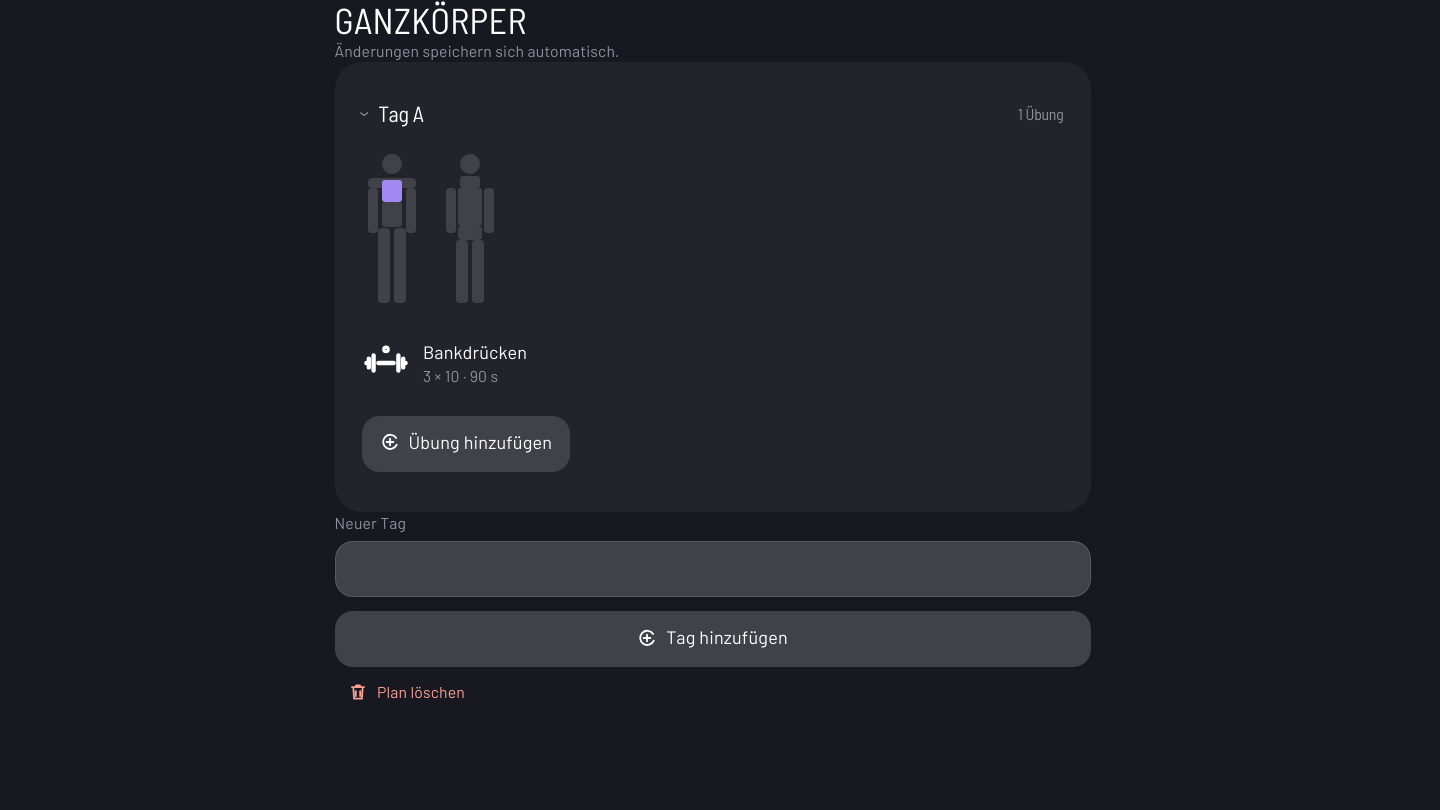
Test case: TrainingPlanEditPage › shows a message instead of an empty list when every exercise is already in the day
Expected: the text "Tag A" is shown, [378, 100, 424, 128]
Click the button "Übung hinzufügen" at (466, 444), box [362, 416, 570, 472]
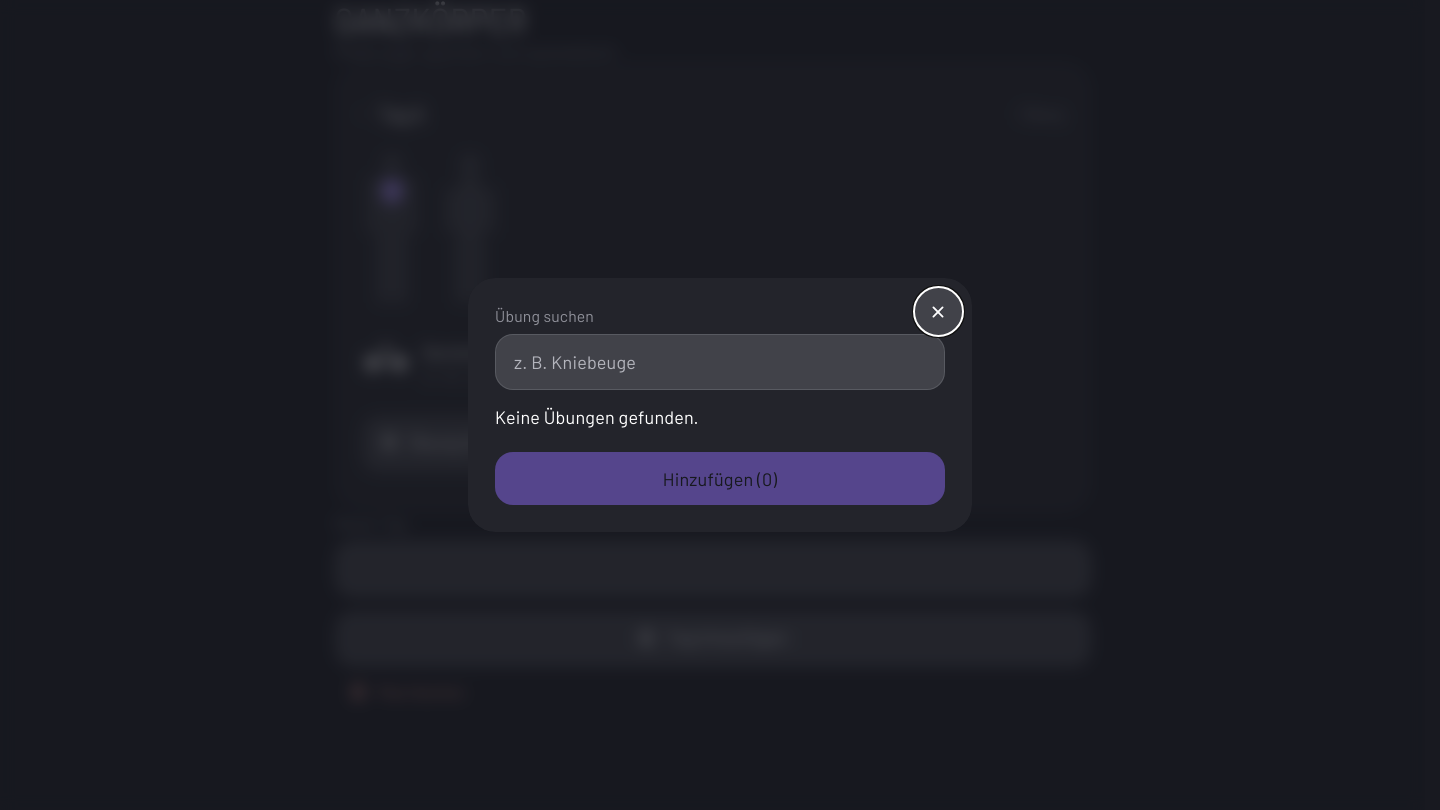
Expected: the text "Keine Übungen gefunden." is shown, [495, 406, 699, 428]
